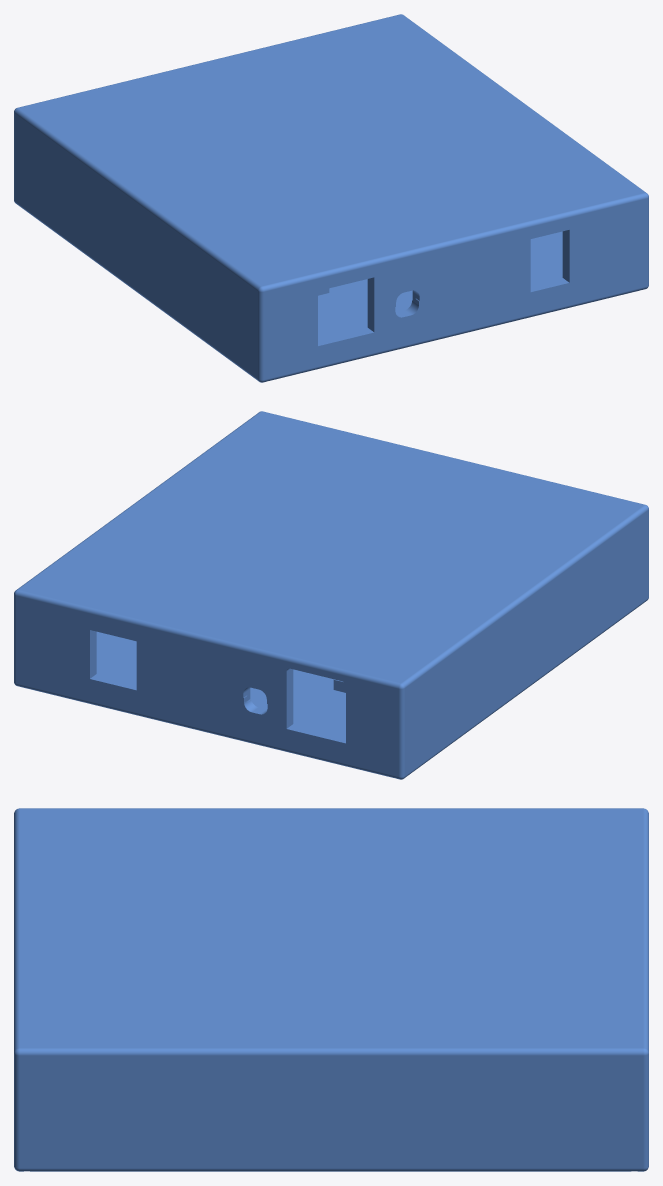
File: compressor public.FBX
The picture shows the model from 3 angles, top to bottom: view 1: azimuth 30°, elevation 25°; view 2: azimuth 150°, elevation 25°; view 3: azimuth 270°, elevation 25°; orthographic projection. The views are drawn at different scales.
Parts seen in each view (by area): view 1: compressor public.IGS; view 2: compressor public.IGS; view 3: compressor public.IGS.
Part boxes in pixels (bbox=[...]): compressor public.IGS: bbox=[14, 14, 648, 382]; compressor public.IGS: bbox=[14, 411, 648, 779]; compressor public.IGS: bbox=[14, 808, 648, 1171].
Bounding box in the file's own units: 3.94 × 0.9252 × 4.33.
